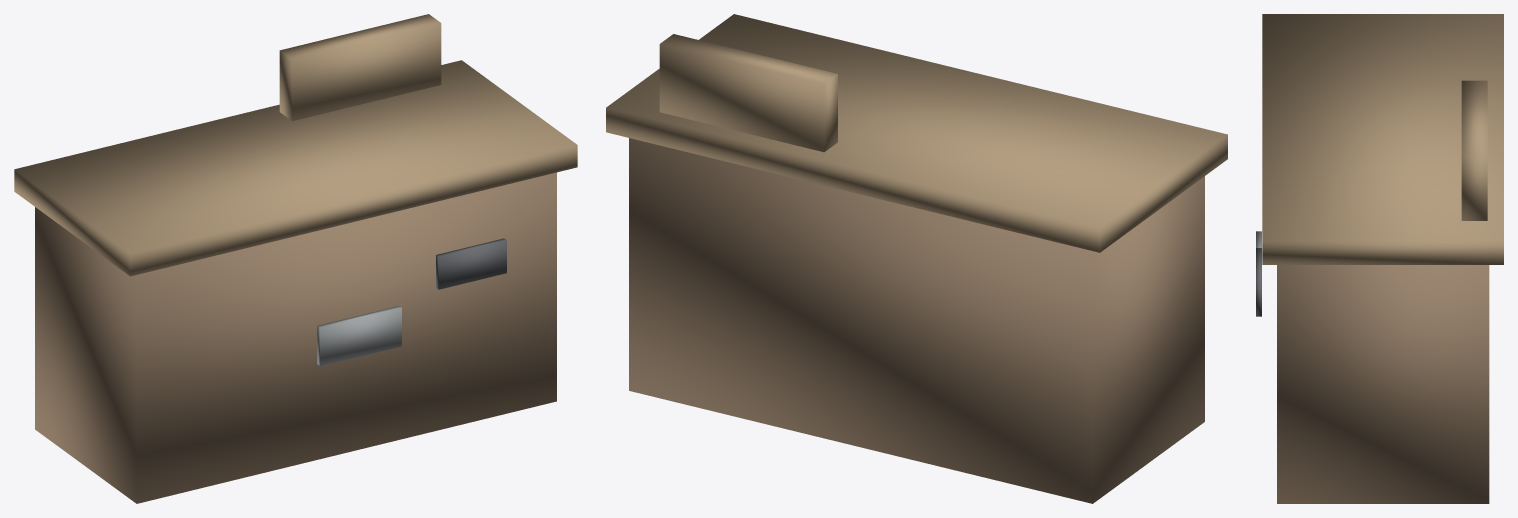
The model's file is clerk_counter__weathered.glb.
3 views of the same model, side by side, from view 1: azimuth 30°, elevation 25°; view 2: azimuth 150°, elevation 25°; view 3: azimuth 270°, elevation 25° (orthographic). The views are drawn at different scales.
Visible parts, largest first — view 1: world; view 2: world; view 3: world.
Part boxes in pixels (box(x1,y1,x2,y2)): world: box(14, 14, 577, 503); world: box(606, 14, 1227, 503); world: box(1256, 14, 1503, 503).
Size of the model in its own units: 1.65 by 1.13 by 0.7596.
